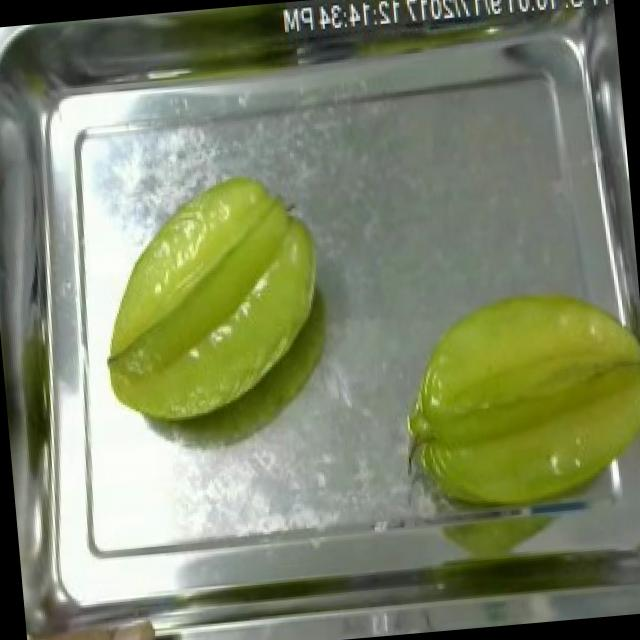fruit: (84, 166, 342, 436), (384, 273, 640, 534), (24, 597, 170, 640)
